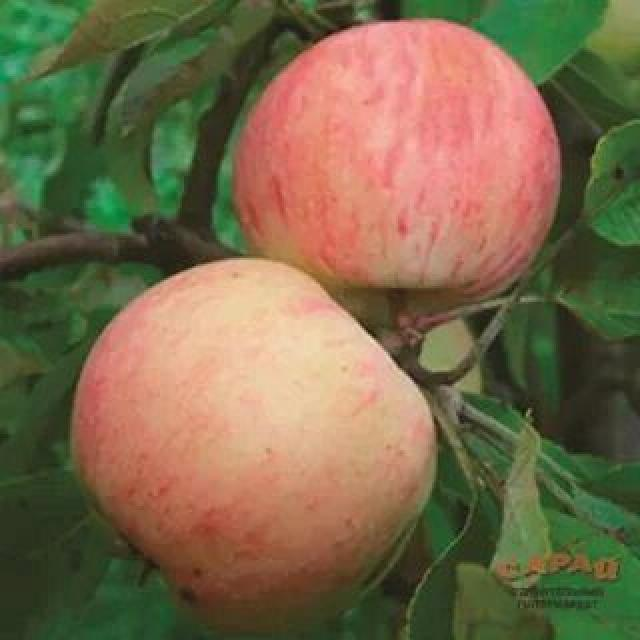Fresh Apple: (42, 268, 438, 600), (237, 32, 568, 310)
